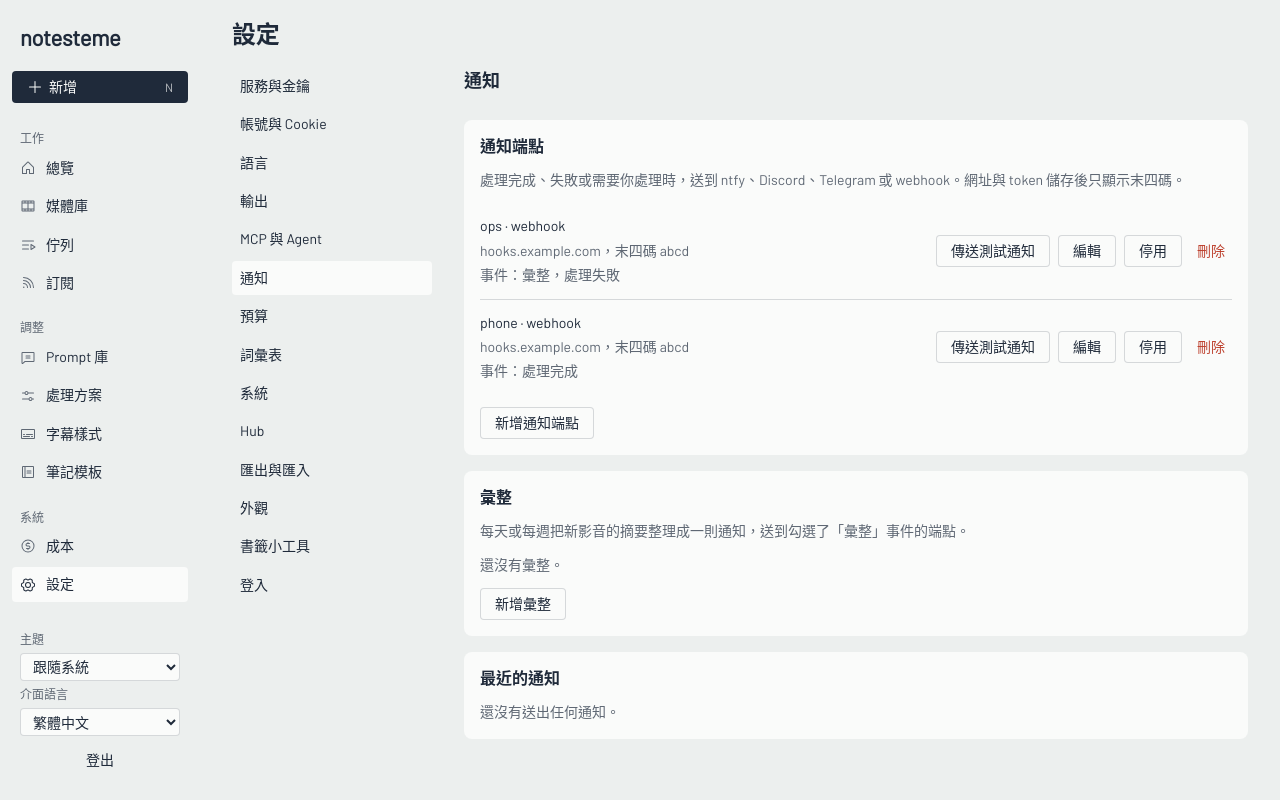
Test: 設定：彙整（DIG-R8～R11） › 新增：只能選勾了彙整事件的端點；每週要選星期；422 逐欄顯示
Expected: the heading "彙整" is shown, x1=480 y1=487 x2=512 y2=506
Step 1. Click the button "新增彙整" → (523,604), box x1=480 y1=588 x2=566 y2=620
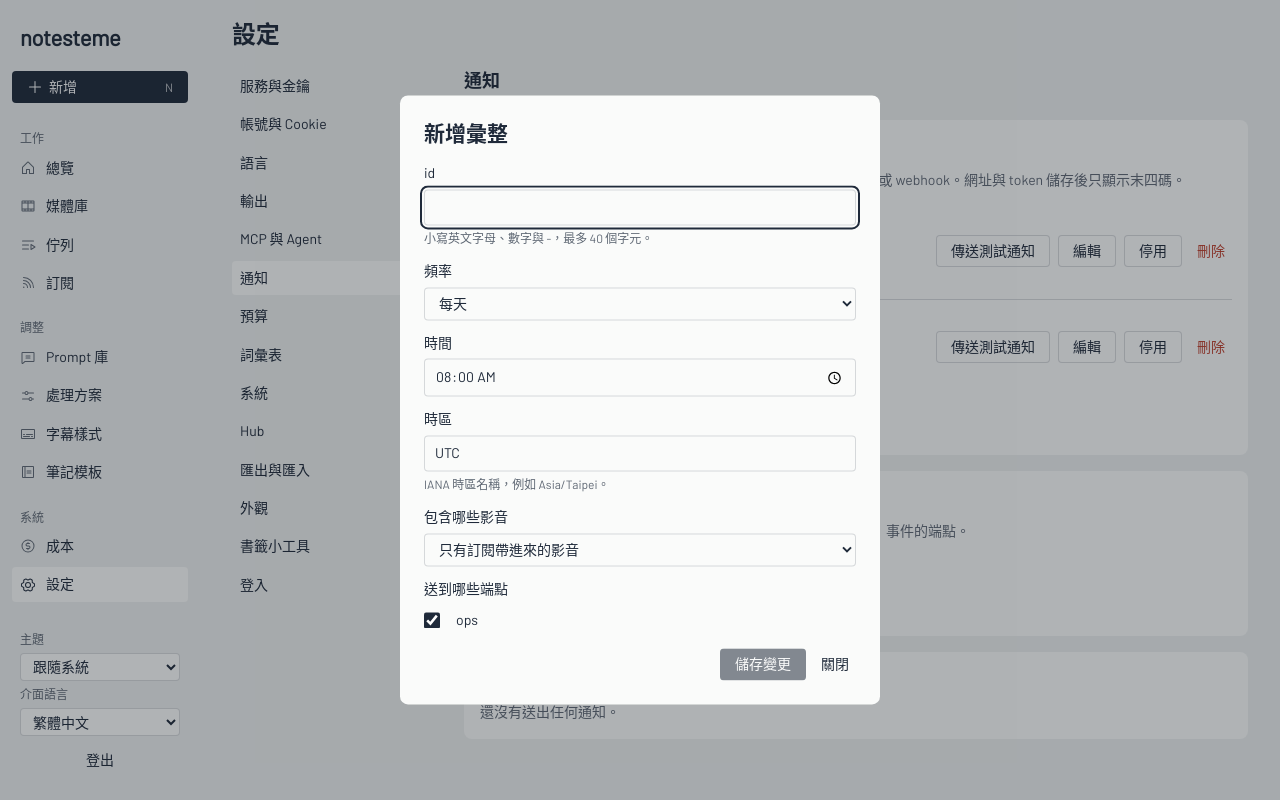
Expected: the checkbox labelled "ops" is checked, x1=424 y1=613 x2=440 y2=629
Step 2. Type "weekly-sum" into the field labelled "id" → (640,207), box x1=424 y1=189 x2=856 y2=226
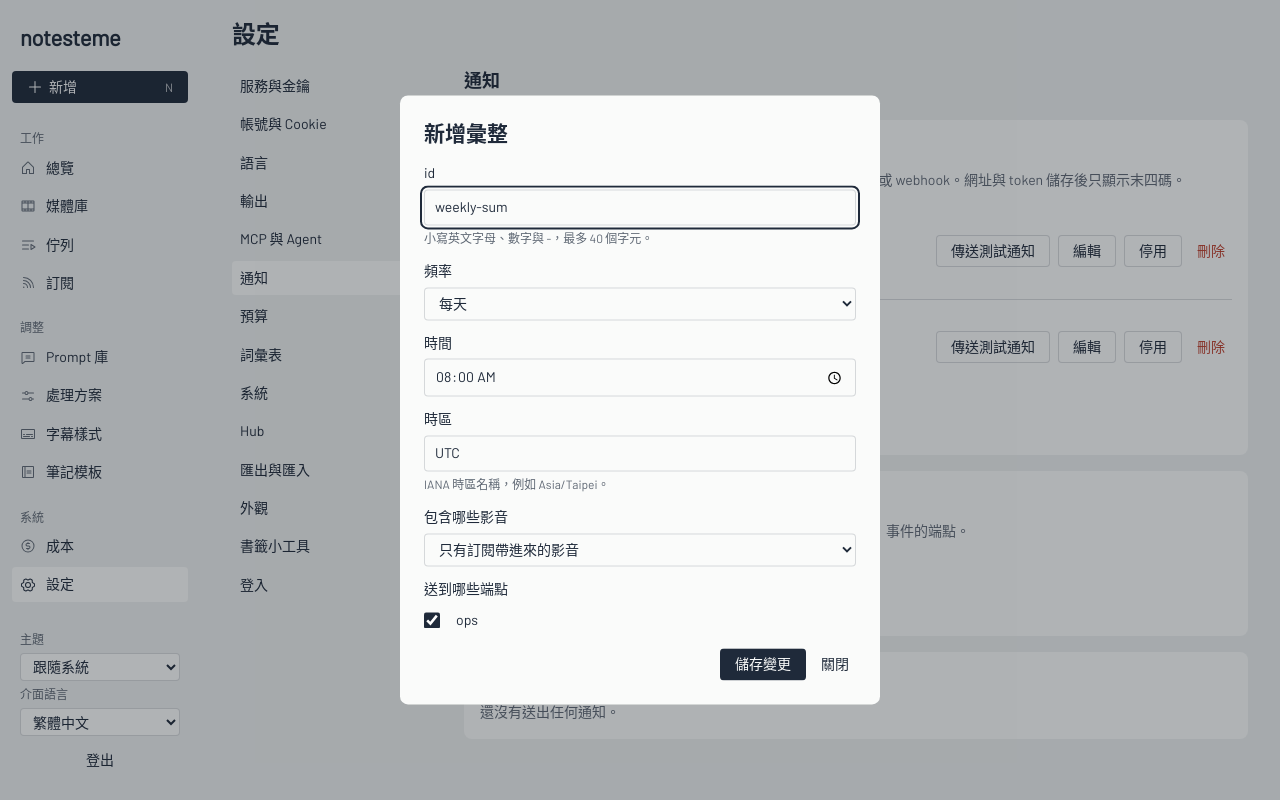
Step 3. Select "每週" in the dropdown labelled "頻率" → (640,304), box x1=424 y1=287 x2=856 y2=320
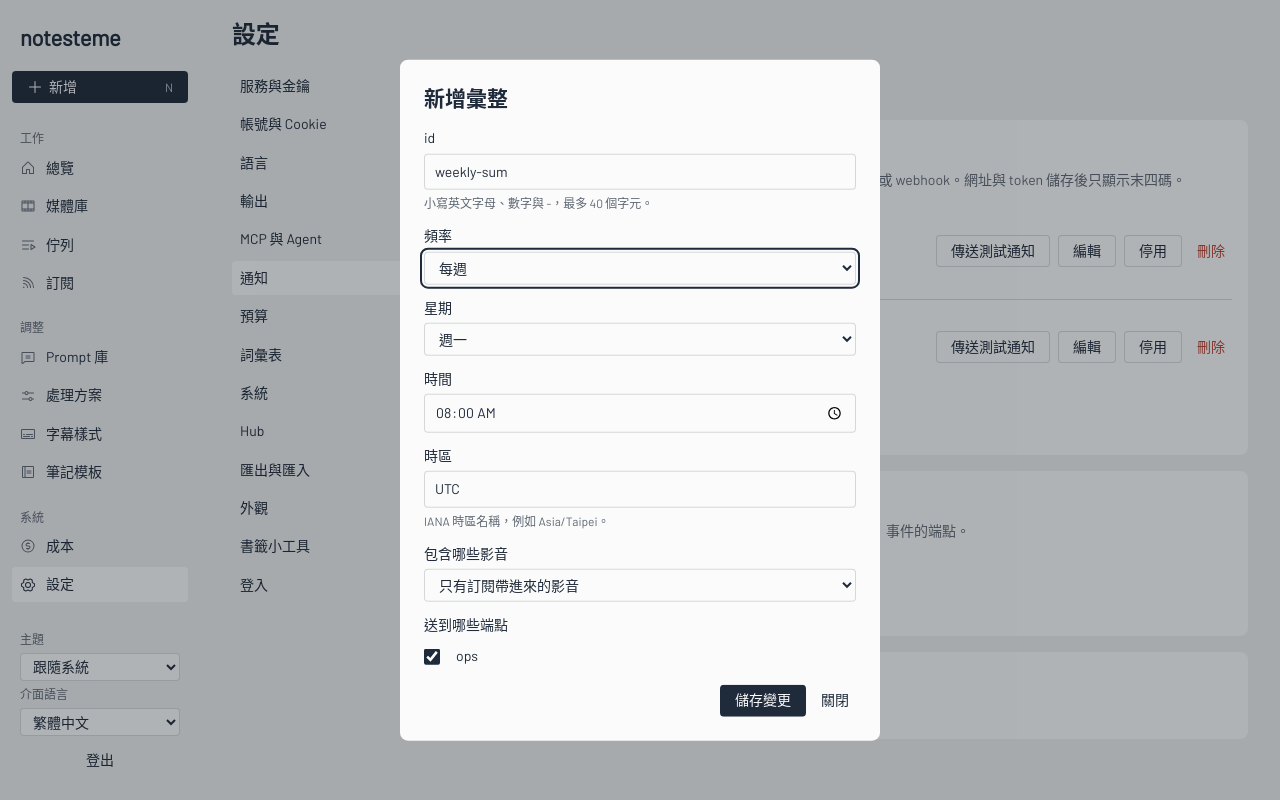
Step 4. Select "週五" in the dropdown labelled "星期" → (640,339), box x1=424 y1=323 x2=856 y2=356
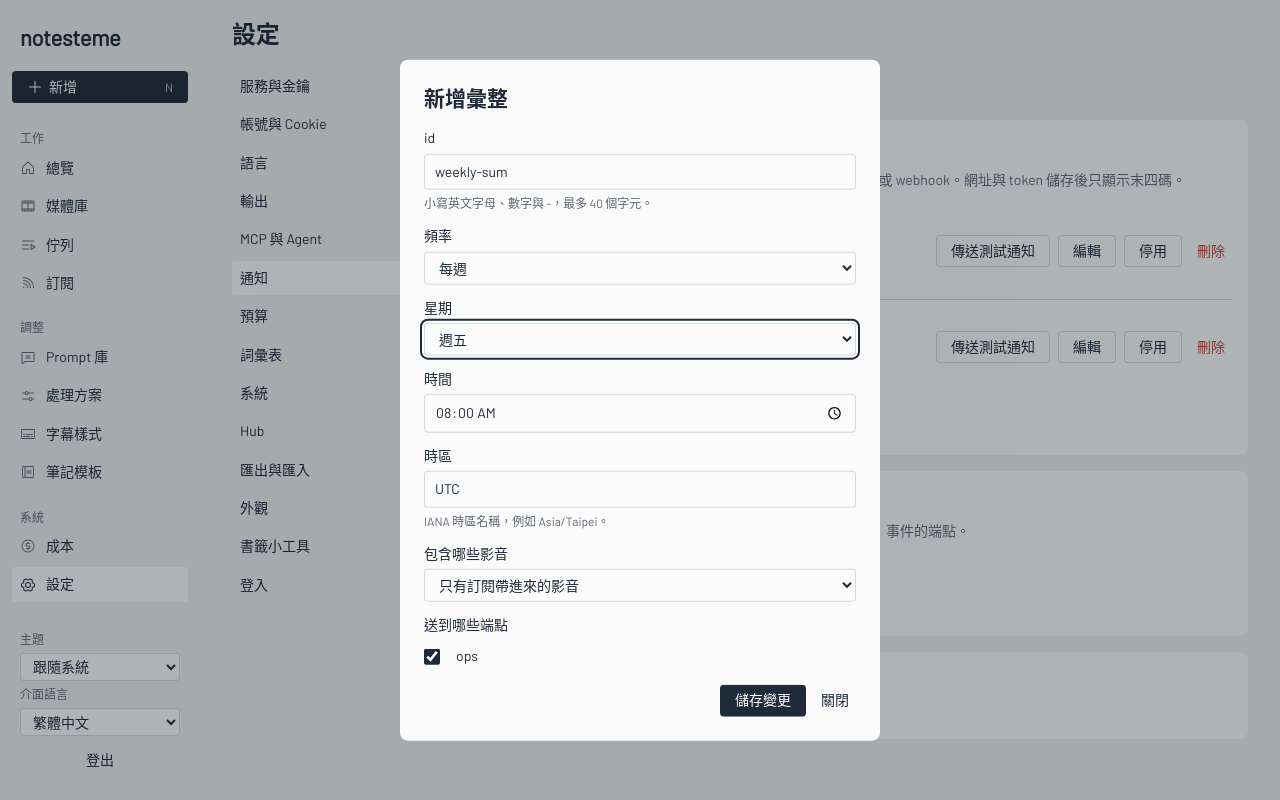
Step 5. Replace the text in the field labelled "時區" with "Mars/Base" → (640,489), box x1=424 y1=471 x2=856 y2=507
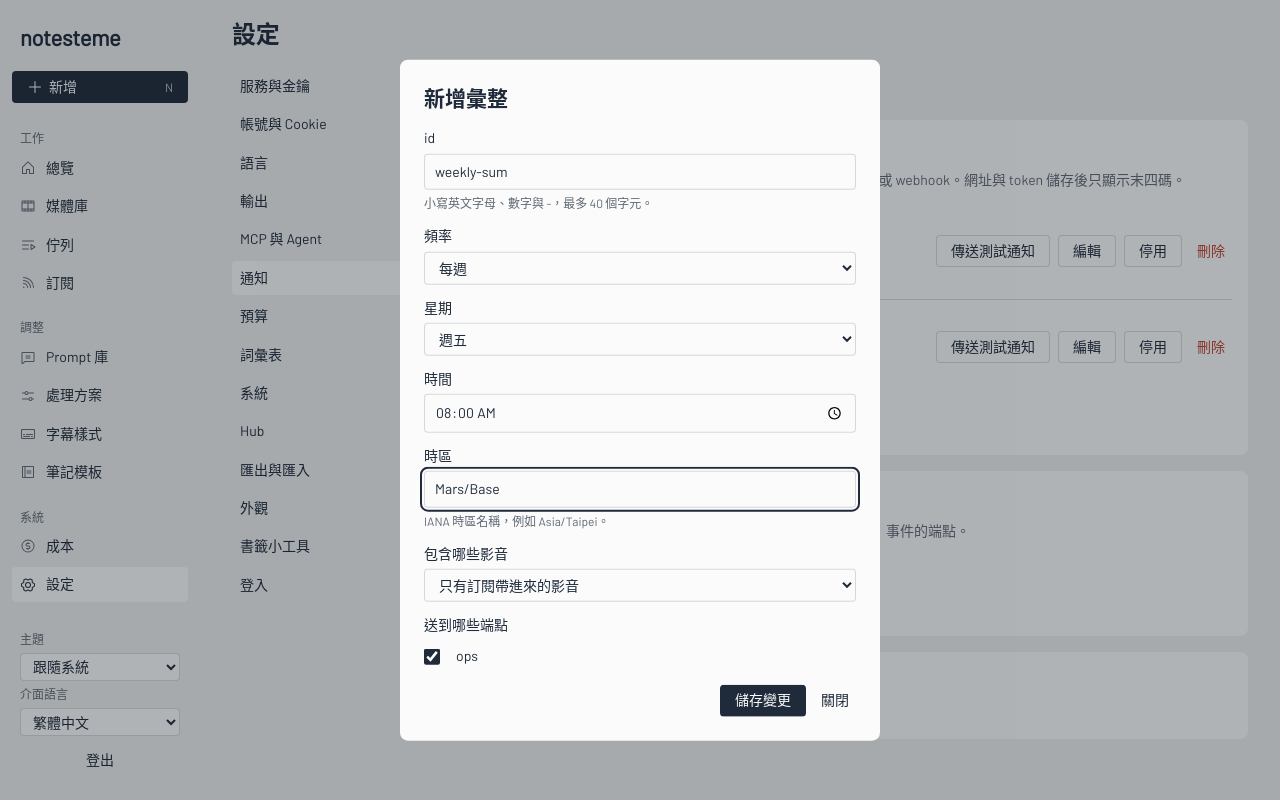
Step 6. Click the button "儲存變更" → (763,700), box x1=720 y1=684 x2=806 y2=716
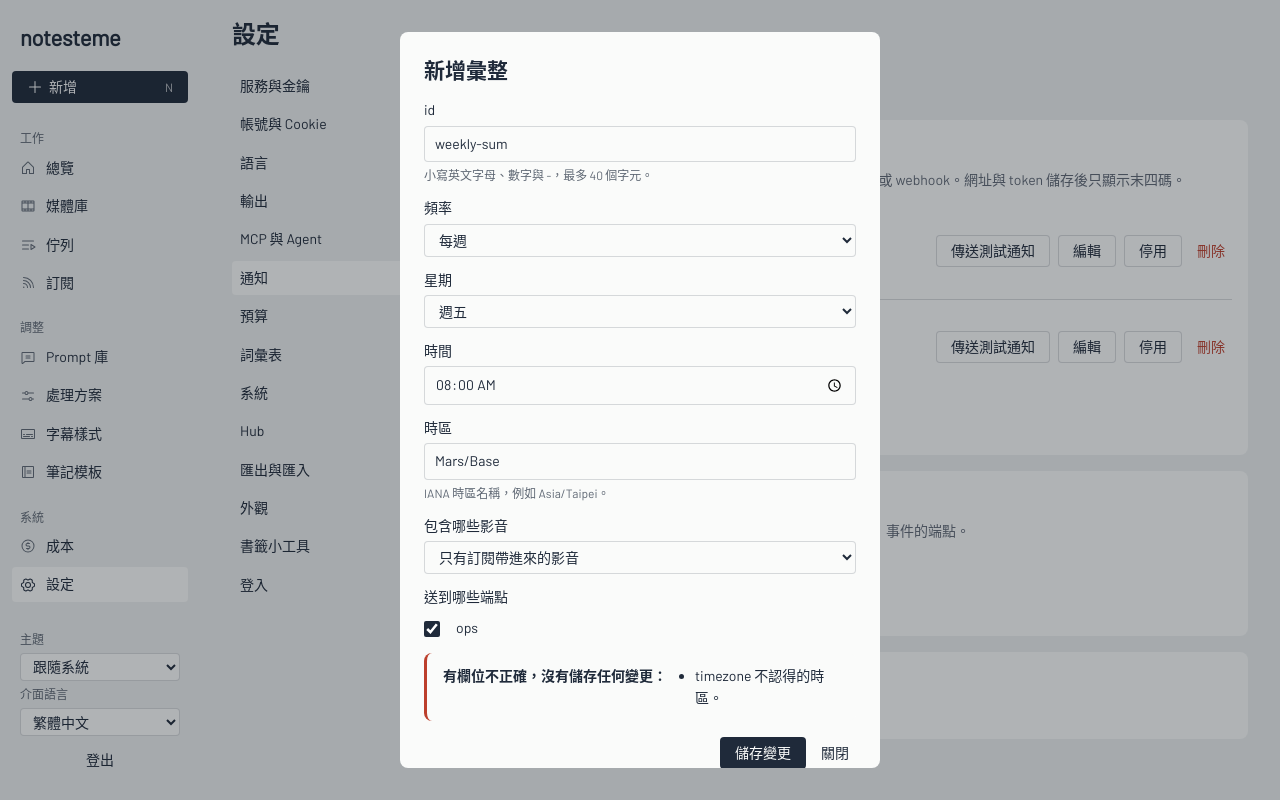
Expected: the list item "不認得的時區。" is shown, x1=695 y1=667 x2=824 y2=706
